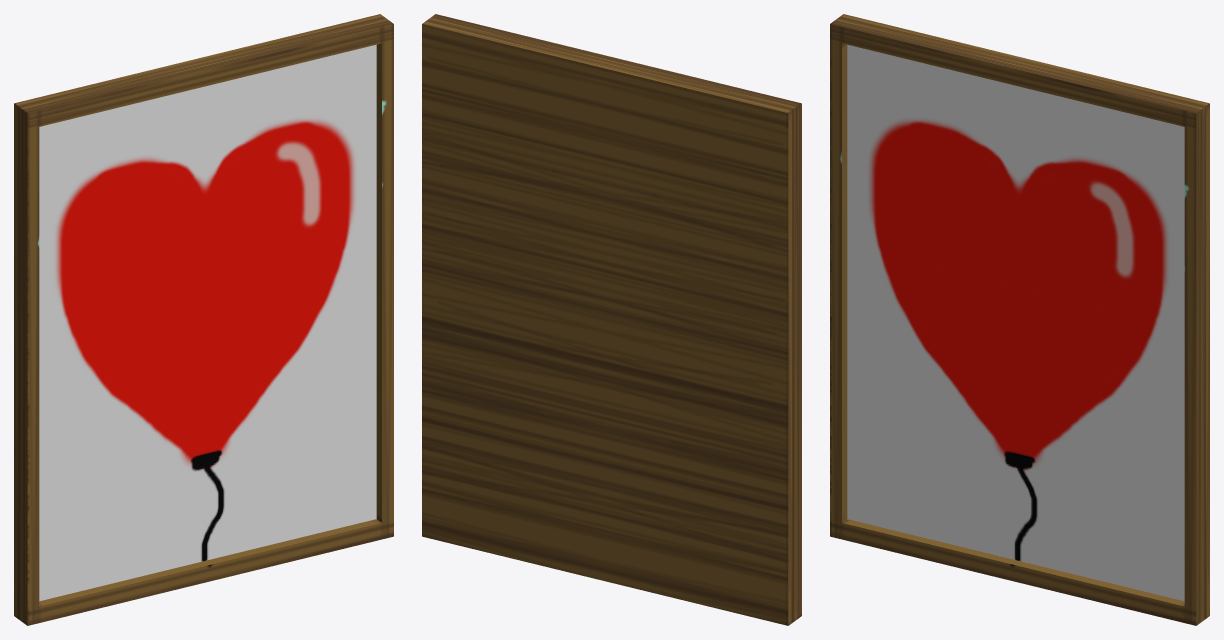
Rendered from Painting.glb.
3 views of the same model, side by side, from view 1: azimuth 30°, elevation 25°; view 2: azimuth 150°, elevation 25°; view 3: azimuth 330°, elevation 25° (orthographic).
Visible parts, largest first — view 1: Cube; view 2: Cube; view 3: Cube.
Boxes of the visible parts, x1=… form: Cube: x1=14, y1=14, x2=393, y2=625; Cube: x1=422, y1=14, x2=801, y2=625; Cube: x1=830, y1=14, x2=1209, y2=625.
Size of the model in its own units: 0.643 by 0.8602 by 0.041.
Materials: 2 (2 with a texture image).
